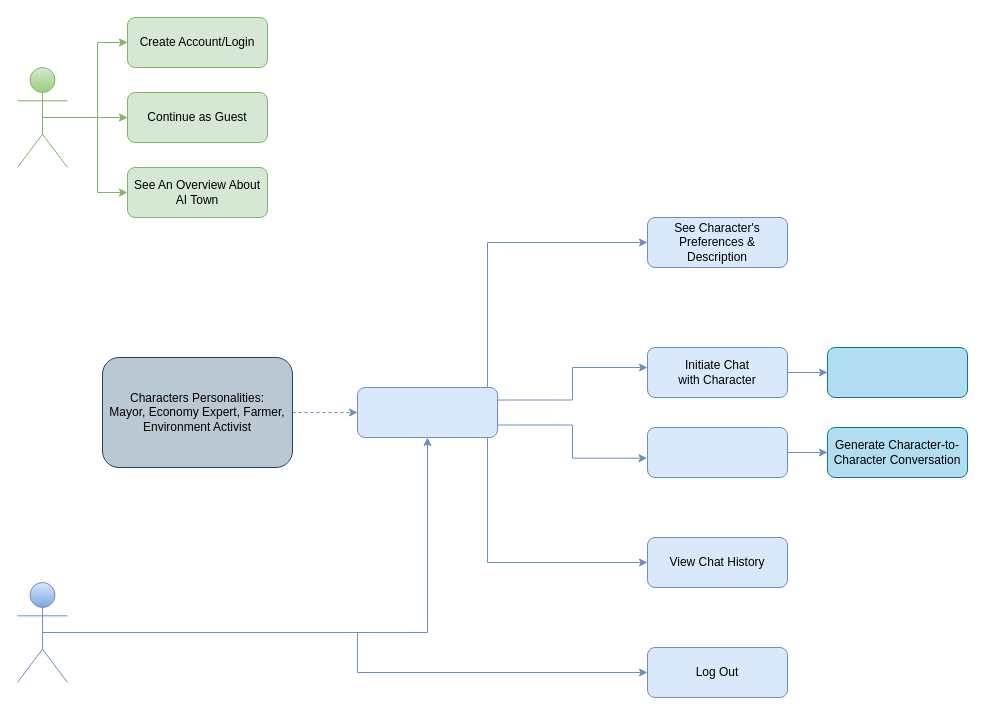
The diagram is 985 pixels wide and 721 high, and some of its shapes have lost their labels. Here are the shapes that lost their labels. From the top down, the centre of each, then its label:
At (42,117): "Visitor".
At (897,372): "Generate Character Response".
At (427,412): "Select Character".
At (717,452): "Initiate Chat Between Characters".
At (42,632): "User".
